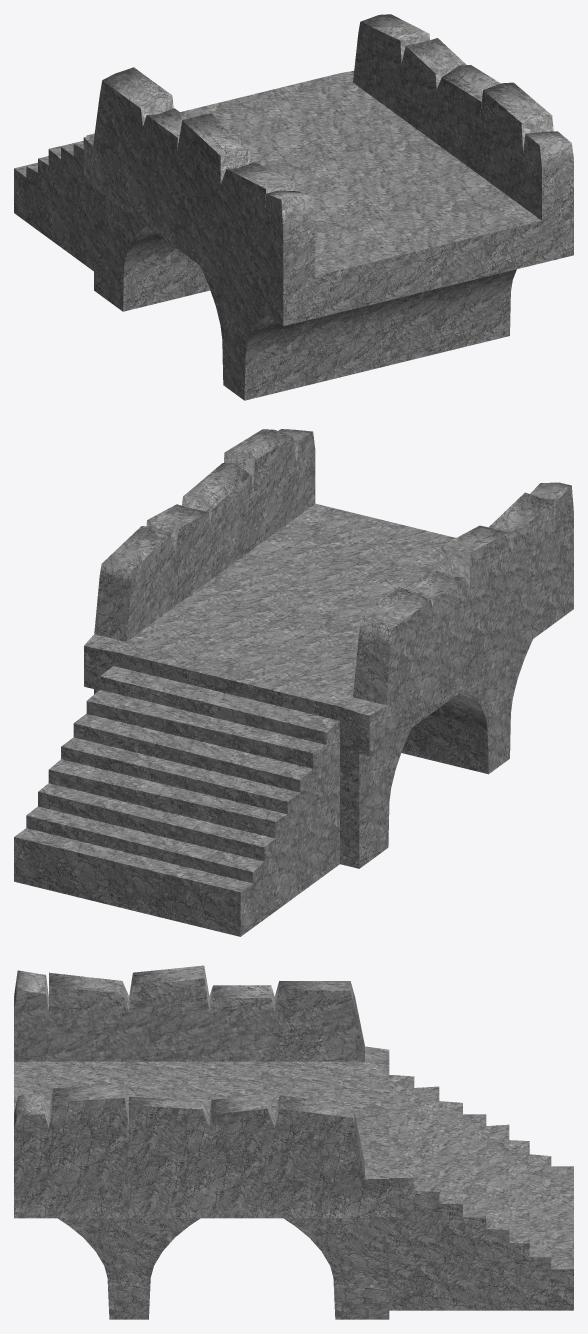
Rendered from materials_3_bridge_7.fbx.
3 views of the same model, one above another, from view 1: azimuth 30°, elevation 25°; view 2: azimuth 150°, elevation 25°; view 3: azimuth 270°, elevation 25° (orthographic). The views are drawn at different scales.
Visible parts, largest first — view 1: materials_3_bridge_7; view 2: materials_3_bridge_7; view 3: materials_3_bridge_7.
Boxes of the visible parts, left/top/right/bottom form: materials_3_bridge_7: left=14, top=14, right=573, bottom=400; materials_3_bridge_7: left=14, top=429, right=573, bottom=936; materials_3_bridge_7: left=14, top=965, right=573, bottom=1319.
Bounding box in the file's own units: 301 × 243 × 538.
